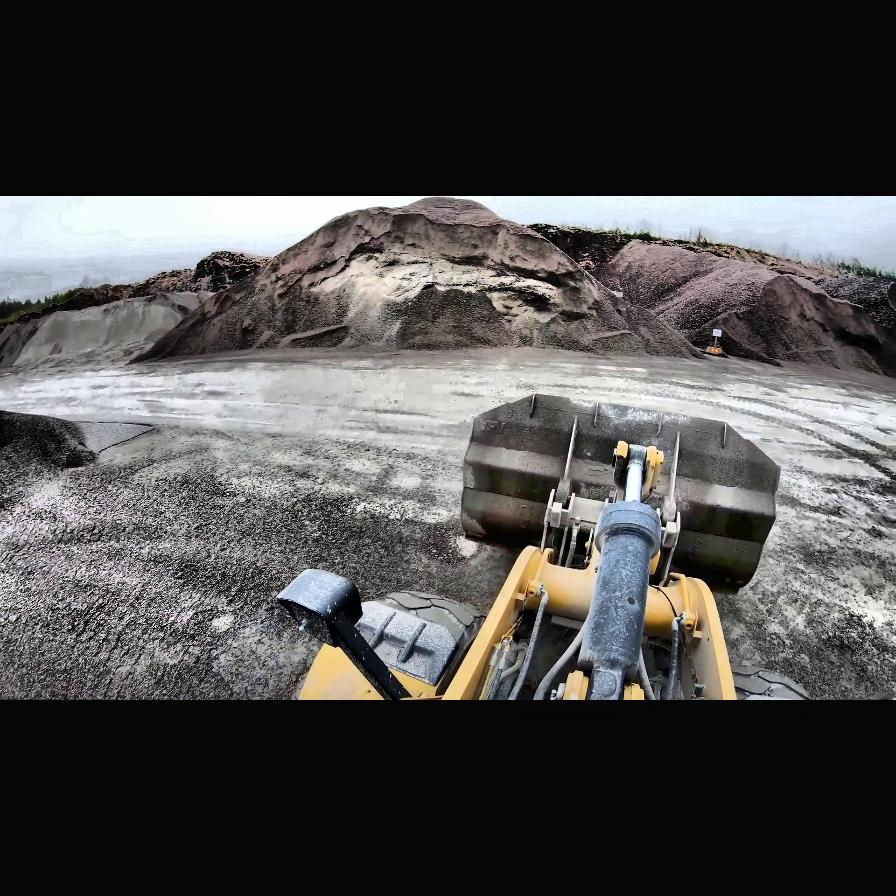anchor: (612, 440, 664, 503)
pile of gravel: (138, 196, 716, 364), (578, 238, 896, 374), (3, 294, 203, 372)
